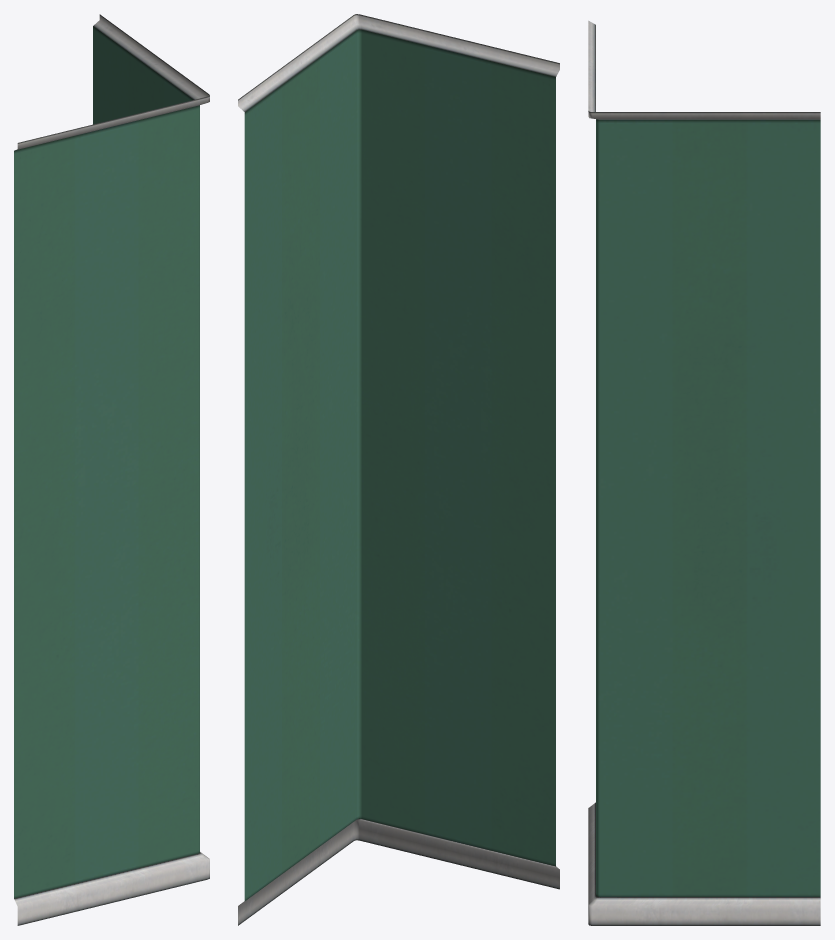
The model's file is livingroom_convex_short.dae.
3 renders of one model, left to right at view 1: azimuth 30°, elevation 25°; view 2: azimuth 150°, elevation 25°; view 3: azimuth 270°, elevation 25°, orthographic. The views are drawn at different scales.
Visible parts, largest first — view 1: waitingroom_convex_short; view 2: waitingroom_convex_short; view 3: waitingroom_convex_short.
Boxes of the visible parts, box(x1,y1,x2,y2) form: waitingroom_convex_short: box(14, 14, 209, 925); waitingroom_convex_short: box(238, 14, 559, 925); waitingroom_convex_short: box(588, 20, 820, 925).
Size of the model in its own units: 103 by 400 by 103.
